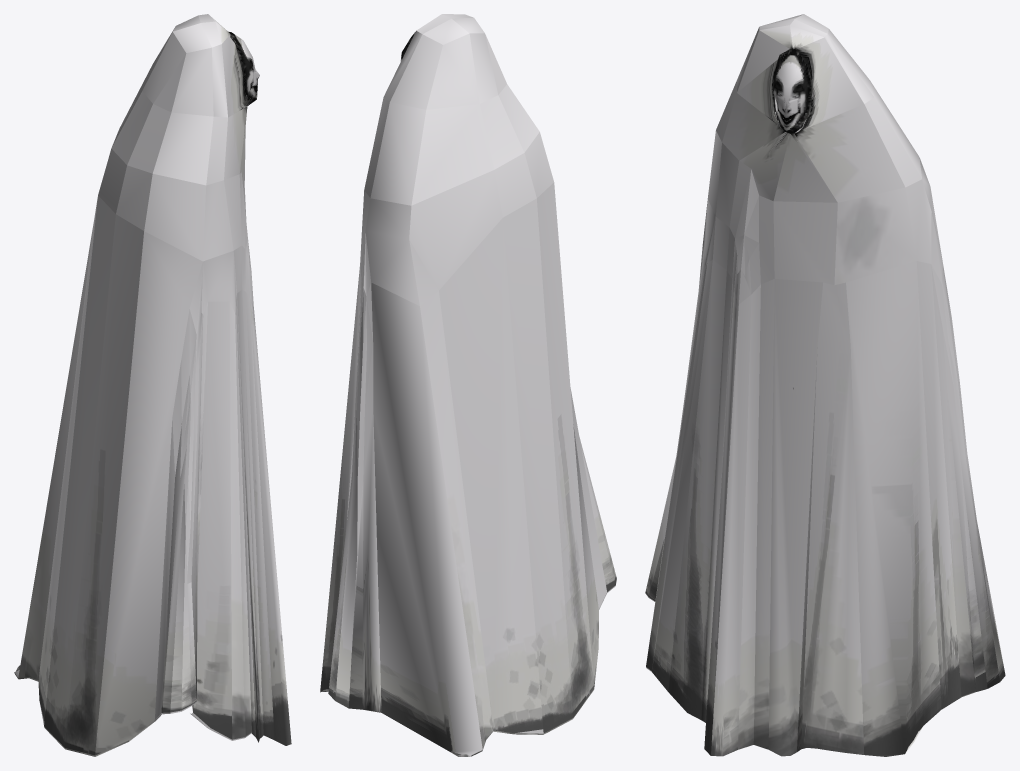
Rendered from FantasmaCaminado.fbx.
3 renders of one model, left to right at view 1: azimuth 30°, elevation 25°; view 2: azimuth 150°, elevation 25°; view 3: azimuth 270°, elevation 25°, orthographic. The views are drawn at different scales.
Parts seen in each view (by area): view 1: Cube.001; view 2: Cube.001; view 3: Cube.001.
Part boxes in pixels (box(x1,y1,x2,y2)): Cube.001: box(14, 14, 291, 756); Cube.001: box(320, 14, 616, 756); Cube.001: box(645, 14, 1005, 756).
Size of the model in its own units: 117 by 357 by 163.
Materials: 2 (2 with a texture image).
